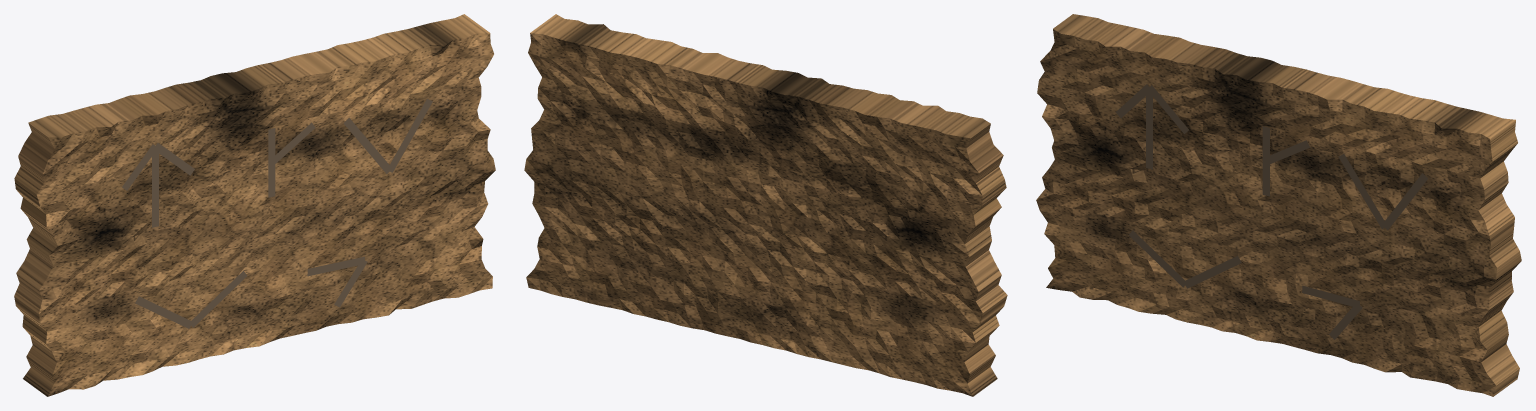
The model's file is inscribed-placa.gltf.
3 views of the same model, side by side, from view 1: azimuth 30°, elevation 25°; view 2: azimuth 150°, elevation 25°; view 3: azimuth 330°, elevation 25° (orthographic).
Size of the model in its own units: 2.95 by 1.58 by 0.3166.
Materials: 2 (1 with a texture image).
